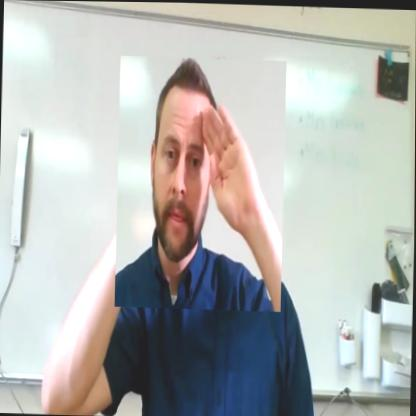Hello: (115, 55, 286, 311)
